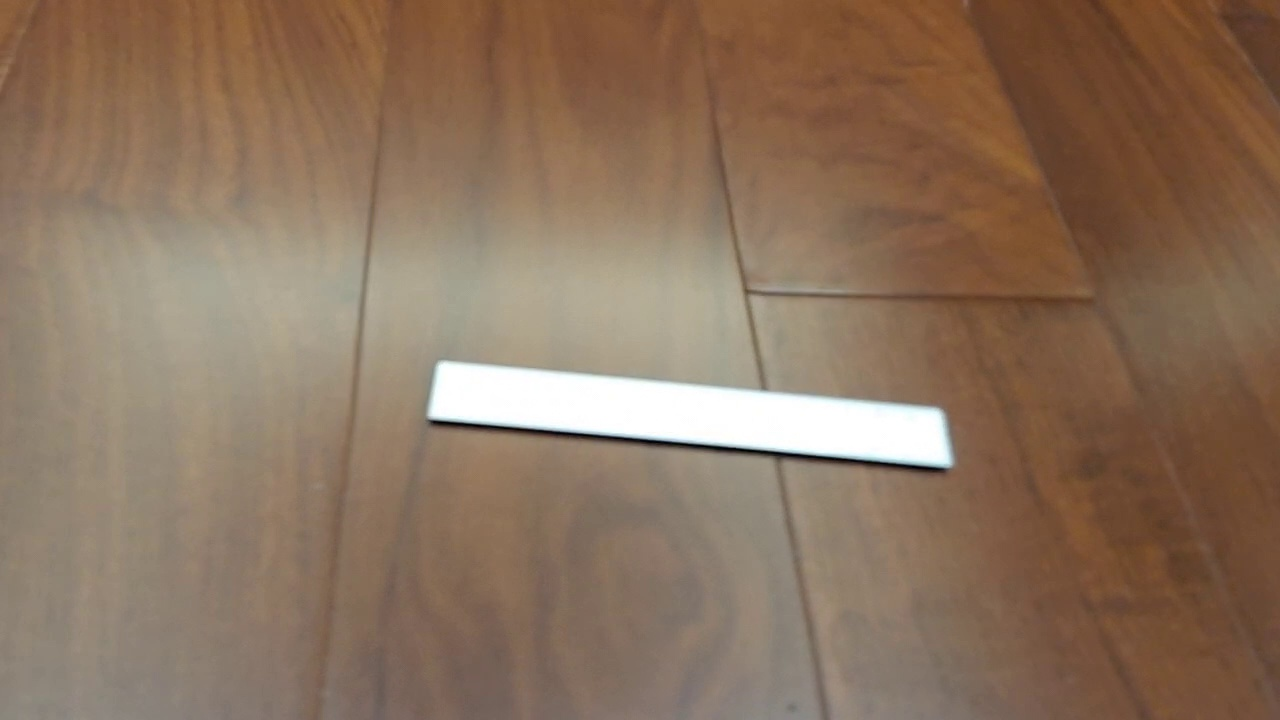ruler: (424, 358, 957, 473)
